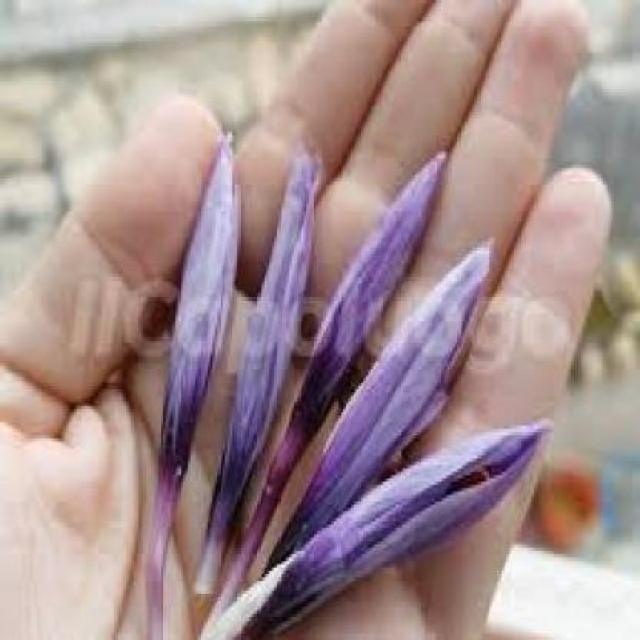Flower: (270, 247, 510, 558), (263, 408, 569, 628), (251, 148, 447, 490), (118, 132, 245, 488), (215, 138, 319, 494)
